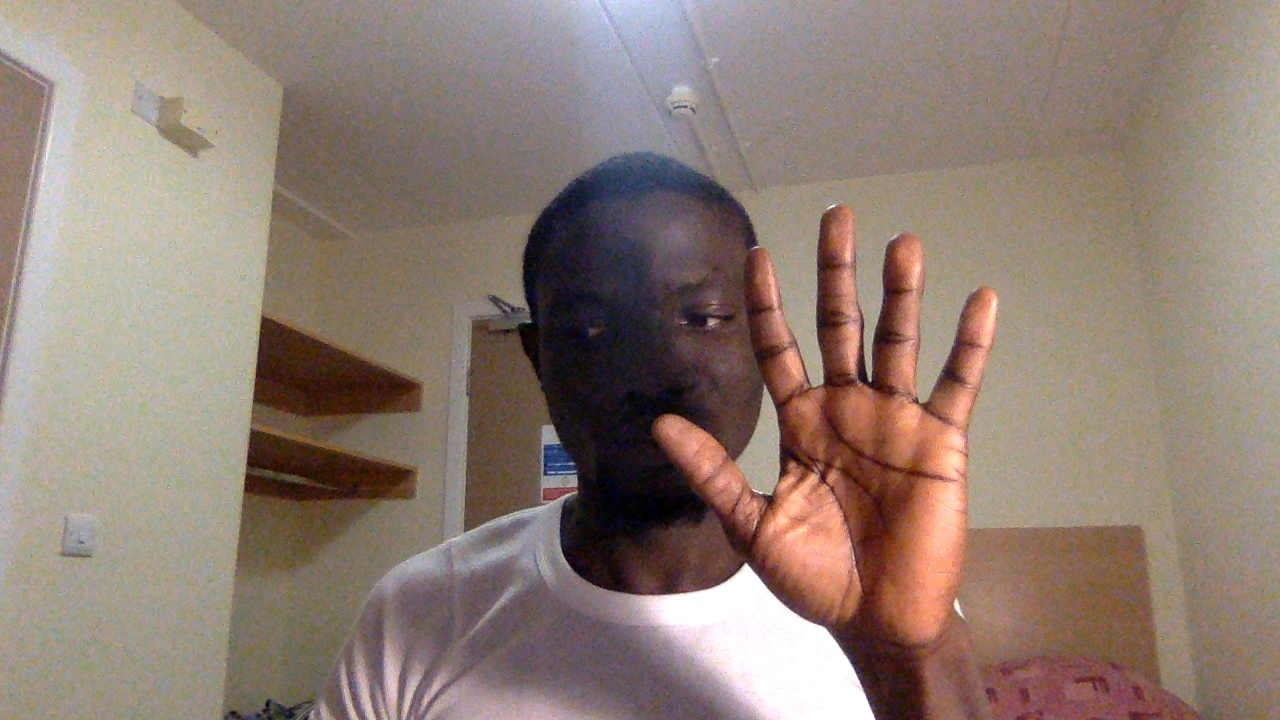Hello: (634, 176, 1017, 681)
